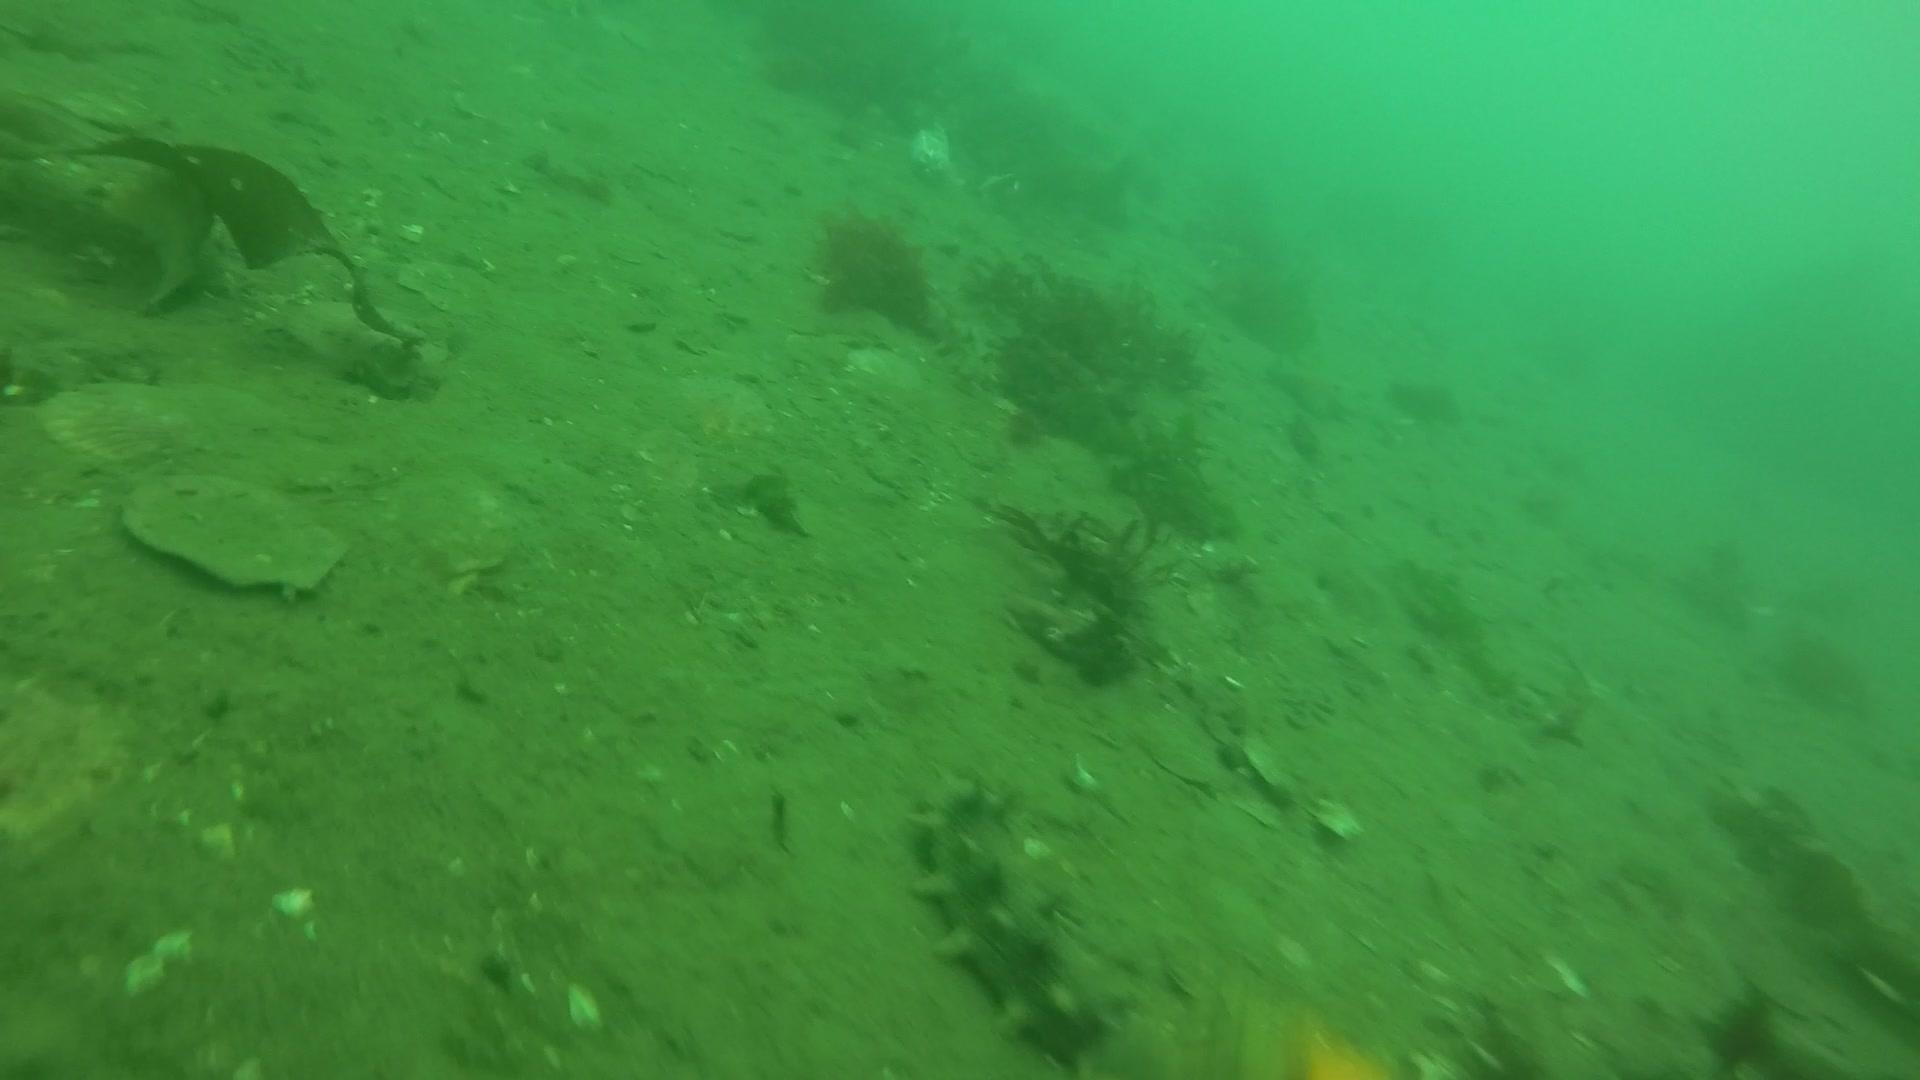holothurian: (905, 775, 1135, 1065)
scallop: (115, 469, 351, 600), (22, 386, 266, 465)
starfish: (1203, 968, 1416, 1077), (1265, 356, 1356, 426)
